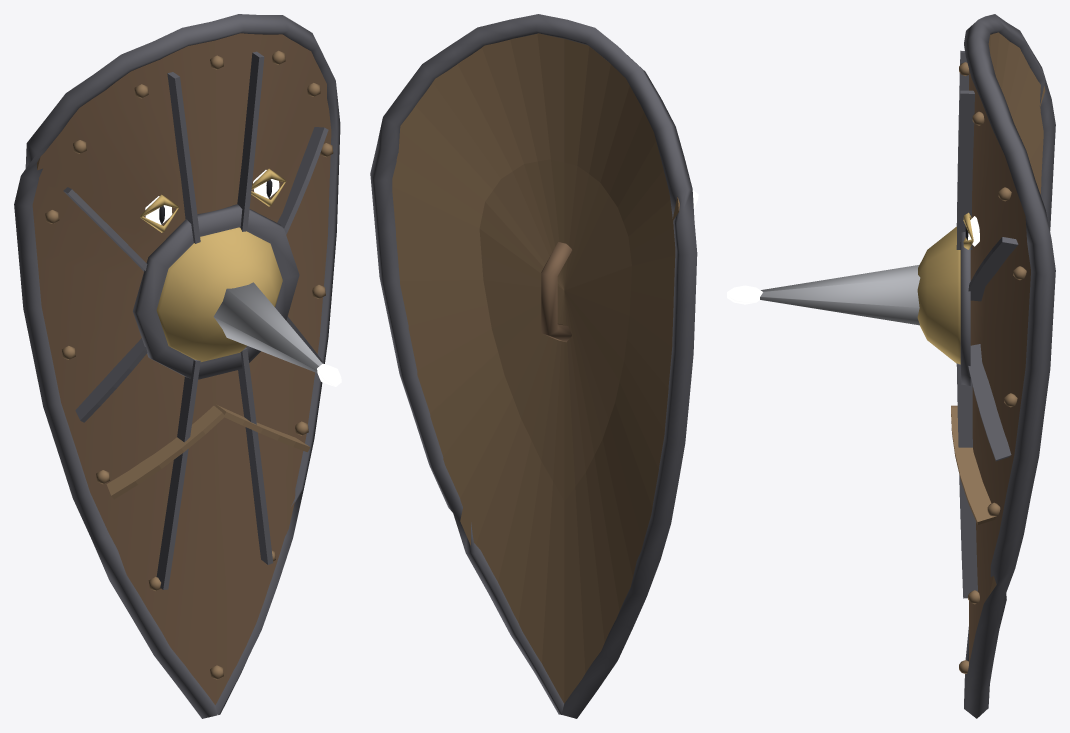
File: shield-spiked-boss.glb
3 views of the same model, side by side, from view 1: azimuth 30°, elevation 25°; view 2: azimuth 150°, elevation 25°; view 3: azimuth 270°, elevation 25° (orthographic). The views are drawn at different scales.
Visible parts, largest first — view 1: shield-spiked-boss; view 2: shield-spiked-boss; view 3: shield-spiked-boss.
Boxes of the visible parts, x1,y1,x2,y2 form: shield-spiked-boss: (14,14,341,718); shield-spiked-boss: (370,14,698,718); shield-spiked-boss: (727,14,1055,718).
Bounding box in the file's own units: 0.879 × 1.79 × 0.7821.
